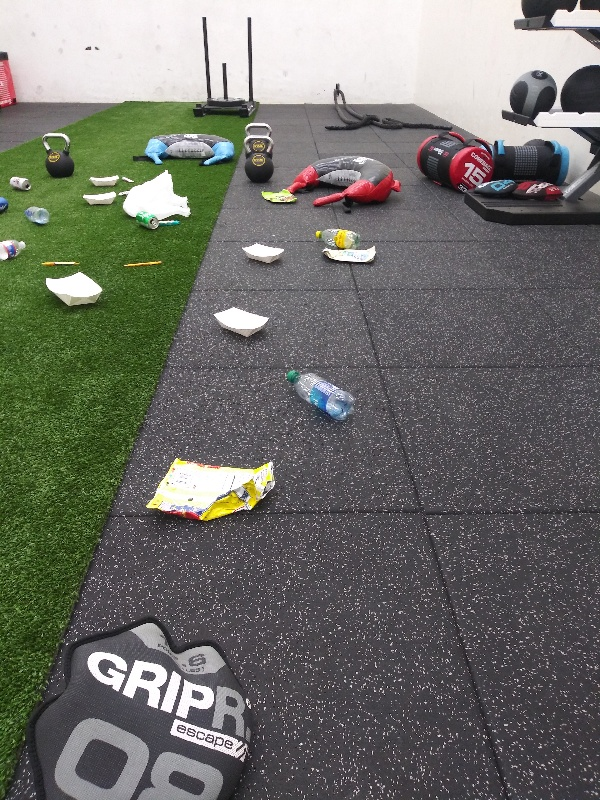bag: (143, 455, 282, 524), (318, 242, 381, 263), (257, 183, 297, 206)
bottle: (281, 363, 357, 425), (311, 228, 363, 249), (1, 236, 29, 262), (19, 203, 50, 225)
can: (132, 208, 162, 231), (4, 175, 35, 192)
plate: (207, 303, 275, 344), (43, 270, 110, 308), (237, 240, 289, 265), (77, 189, 118, 206), (85, 173, 120, 187)
